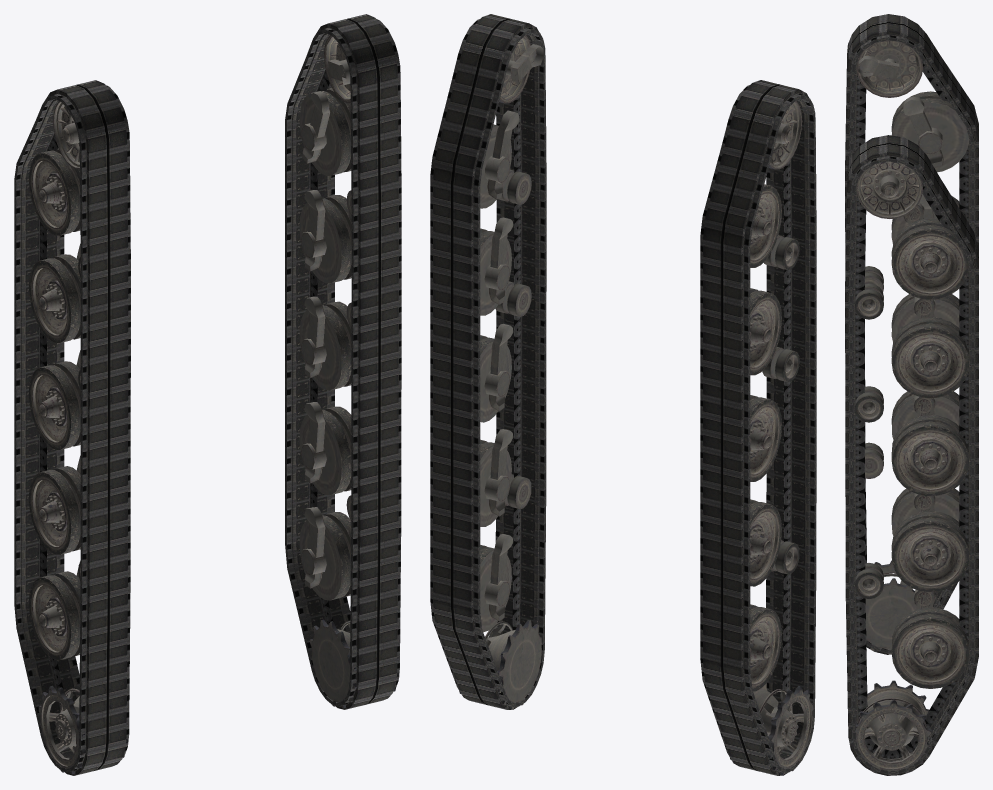
File: Chassis.glb
3 renders of one model, left to right at view 1: azimuth 30°, elevation 25°; view 2: azimuth 150°, elevation 25°; view 3: azimuth 270°, elevation 25°, orthographic. The views are drawn at different scales.
Parts seen in each view (by area): view 1: set_1_group_0, set_0_group_0, set_3_group_0, set_2_group_0; view 2: set_1_group_0, set_0_group_0, set_3_group_0, set_2_group_0; view 3: set_3_group_0, set_0_group_0, set_2_group_0, set_1_group_0.
Boxes of the visible parts, left/top/right/bottom form: set_1_group_0: left=14, top=80, right=130, bottom=775; set_0_group_0: left=285, top=14, right=401, bottom=709; set_3_group_0: left=299, top=35, right=399, bottom=708; set_2_group_0: left=28, top=101, right=128, bottom=774; set_1_group_0: left=700, top=80, right=816, bottom=775; set_0_group_0: left=430, top=14, right=546, bottom=709; set_3_group_0: left=455, top=35, right=543, bottom=708; set_2_group_0: left=725, top=101, right=812, bottom=774; set_3_group_0: left=850, top=161, right=969, bottom=775; set_0_group_0: left=845, top=135, right=978, bottom=775; set_2_group_0: left=856, top=40, right=969, bottom=654; set_1_group_0: left=845, top=14, right=978, bottom=654.
Bounding box in the file's own units: 2.99 × 6.09 × 1.19.
Materials: 4 (4 with a texture image).
